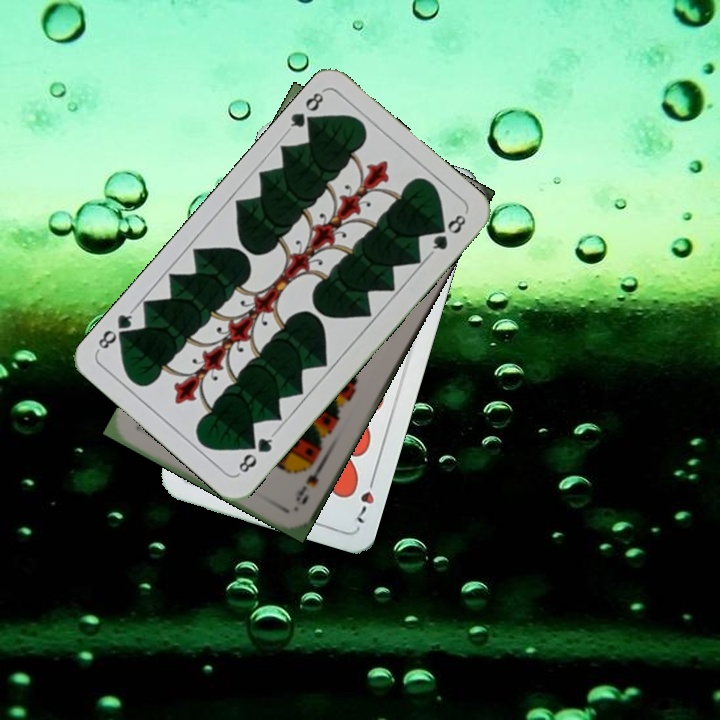G8: (282, 86, 327, 135), (233, 429, 277, 477)
H7: (352, 470, 379, 527)
S9: (291, 456, 328, 508)
